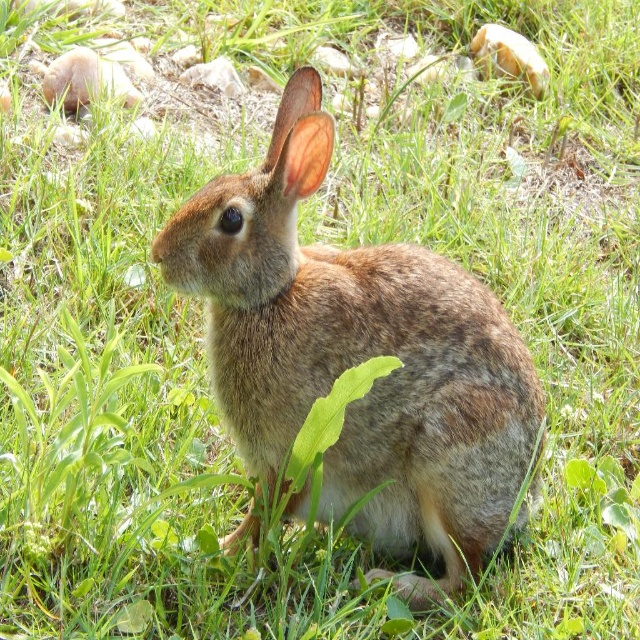Rabbit: (152, 65, 546, 614)
